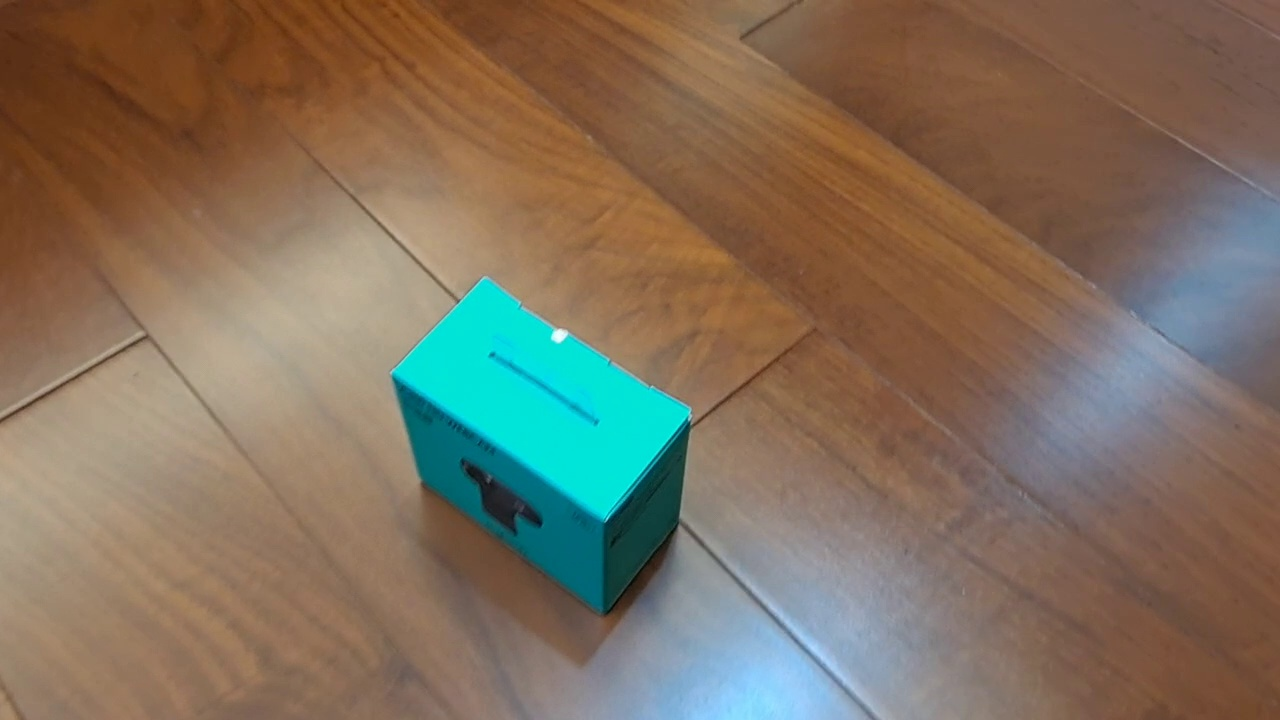webcam: (389, 274, 694, 617)
